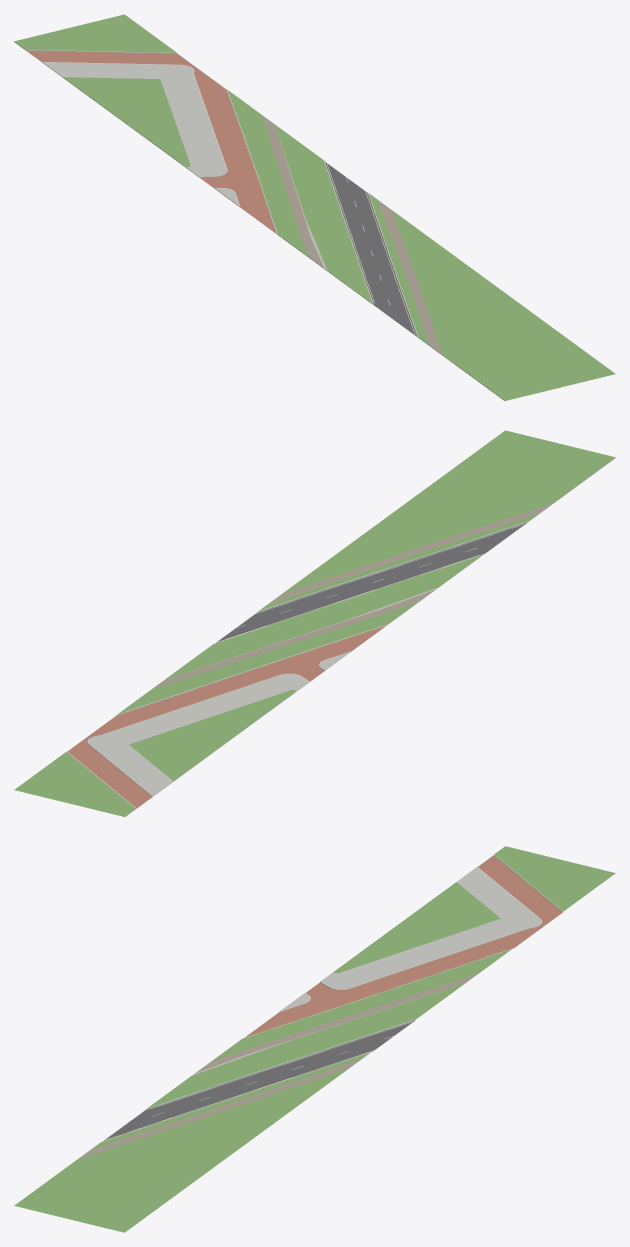
Rendered from ground_3_10.glb.
The picture shows the model from 3 angles, top to bottom: view 1: azimuth 30°, elevation 25°; view 2: azimuth 150°, elevation 25°; view 3: azimuth 330°, elevation 25°; orthographic projection.
Parts seen in each view (by area): view 1: ground_3_10; view 2: ground_3_10; view 3: ground_3_10.
Part boxes in pixels (x1=…): ground_3_10: x1=14, y1=14, x2=615, y2=400; ground_3_10: x1=14, y1=430, x2=615, y2=816; ground_3_10: x1=14, y1=846, x2=615, y2=1232.
Bounding box in the file's own units: 26.22 × 0.12 × 200.
